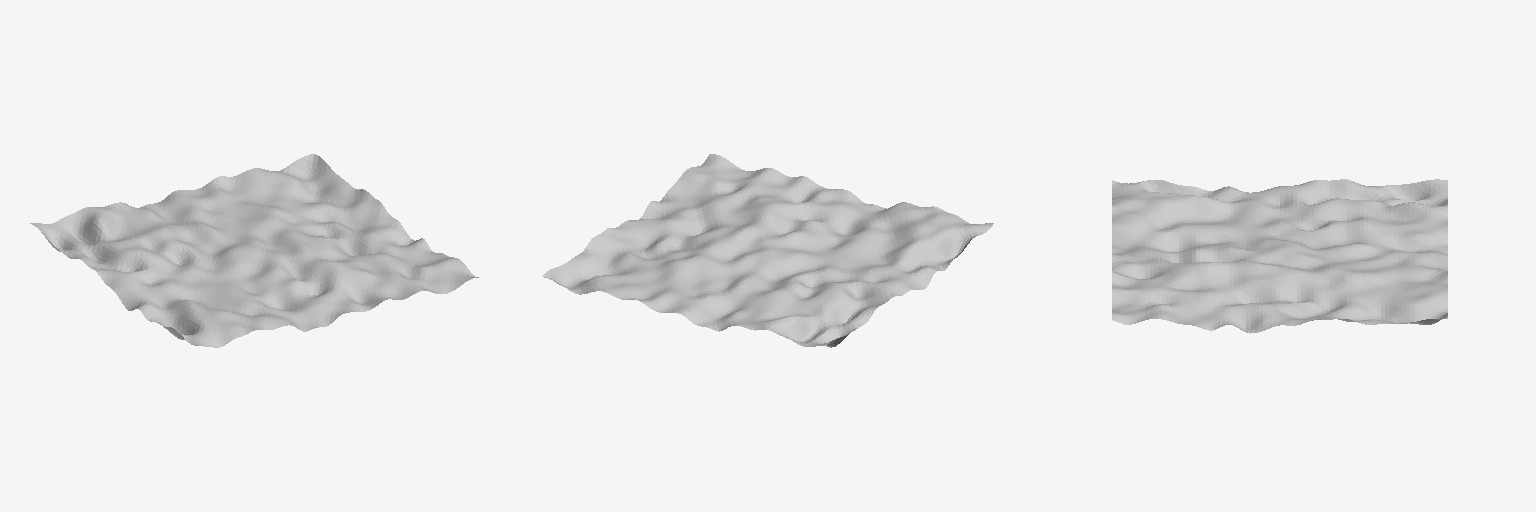
File: test_terrain.obj
3 renders of one model, left to right at view 1: azimuth 30°, elevation 25°; view 2: azimuth 150°, elevation 25°; view 3: azimuth 270°, elevation 25°, orthographic.
Size of the model in its own units: 116 by 8.52 by 119.